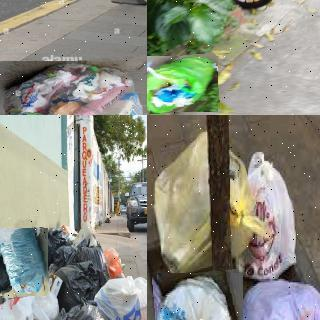Garbage: (153, 124, 258, 270), (0, 57, 147, 115), (238, 148, 302, 280), (154, 271, 245, 320), (147, 54, 219, 113), (234, 280, 320, 320), (0, 227, 49, 297), (96, 275, 147, 320), (56, 260, 103, 306), (49, 302, 118, 320), (0, 297, 52, 320)
